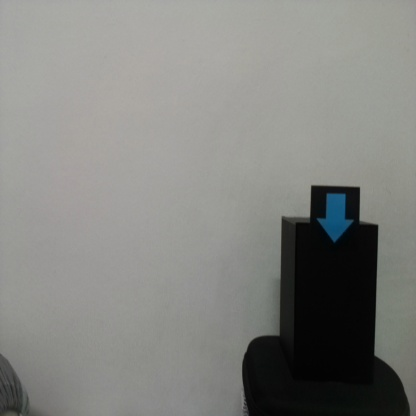id_2: (310, 186, 360, 258)
